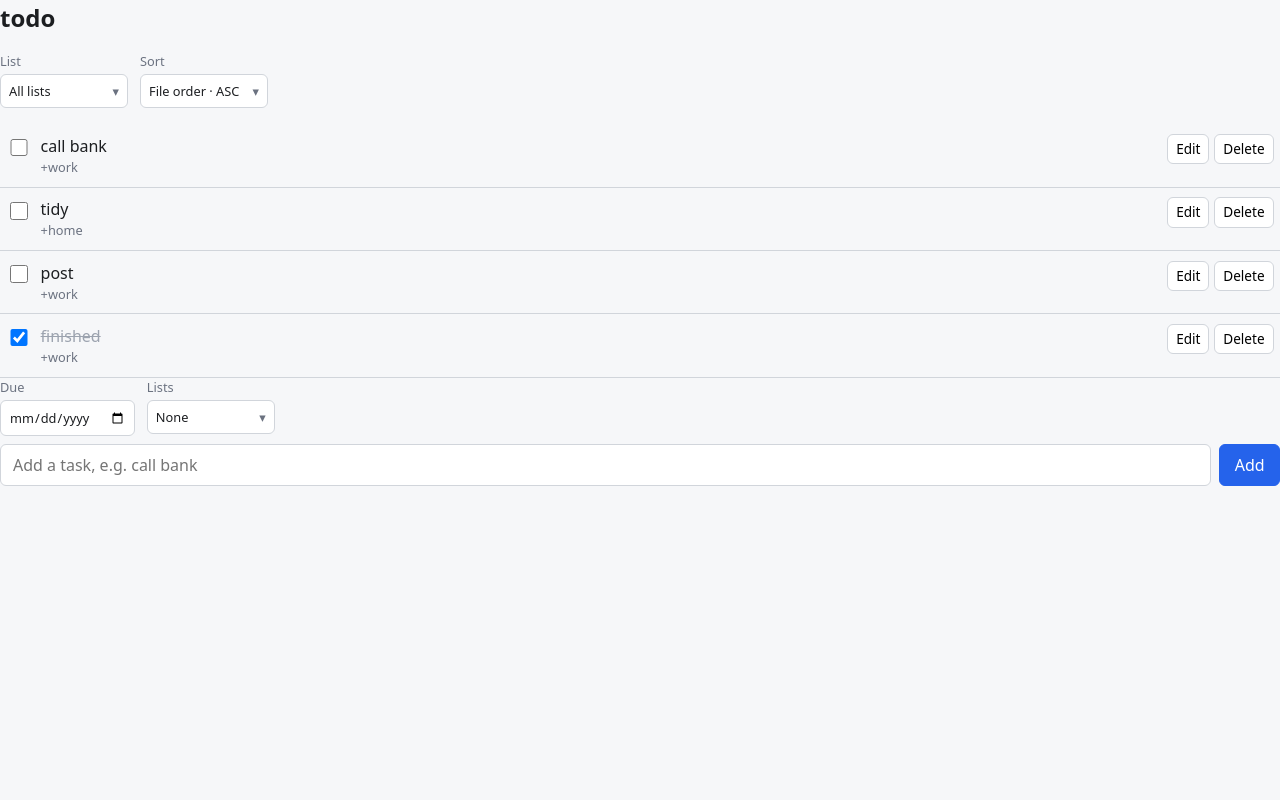
Test: TodoPane simplified workflow (compact=false) › list filtering includes completed tasks and offers no status/context controls
Expected: the text "finished" is shown, [41,325,101,347]
Click the button with aria-label "list filter". click: click(64, 91)
box: [0,74,128,108]
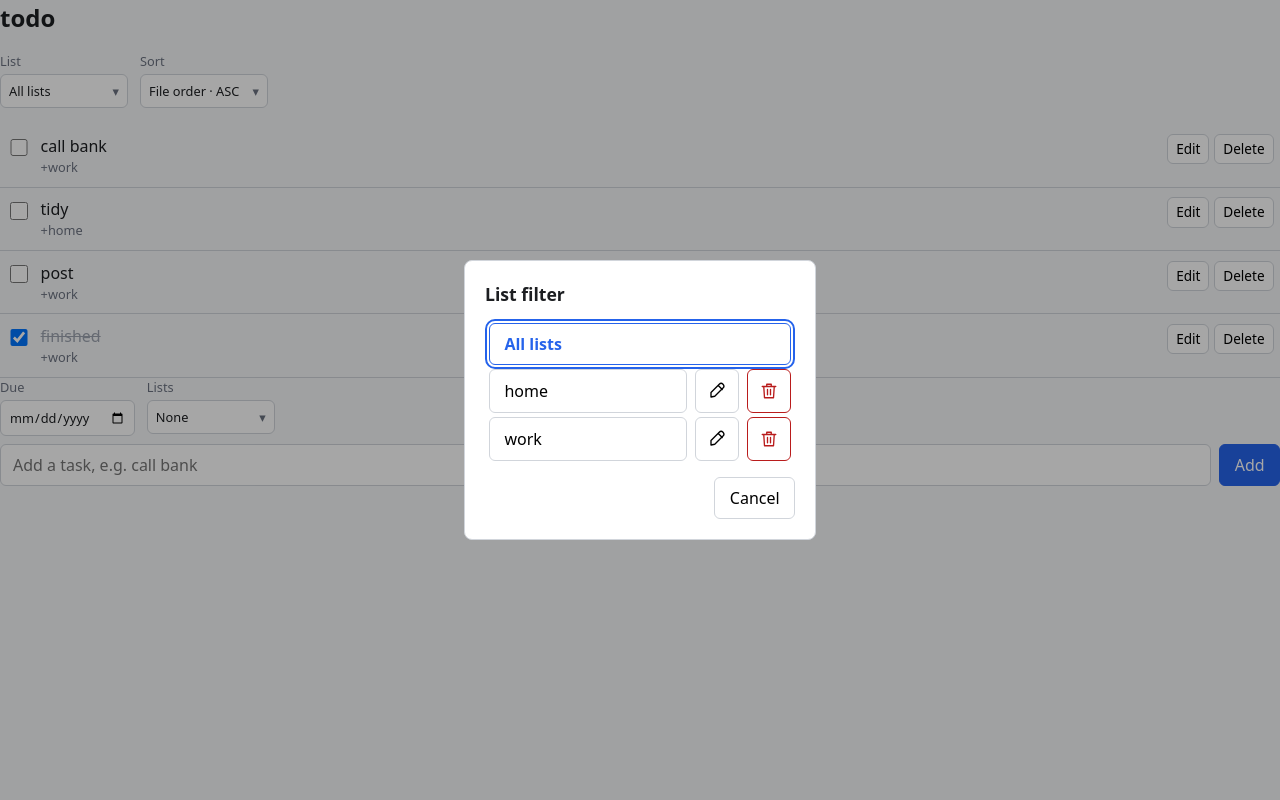
Click the button "work". click: click(588, 439)
box: [489,417,687,461]
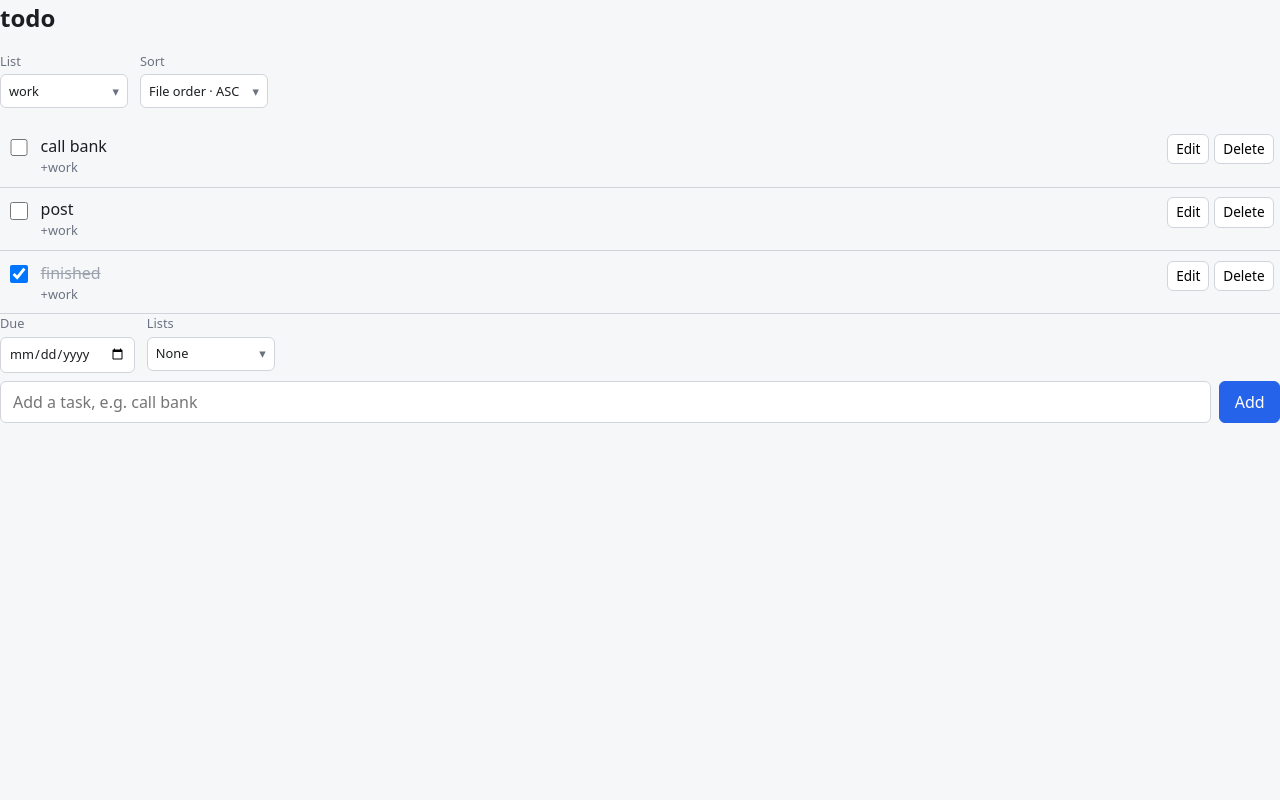
Expected: the text with class "meta" below "finished" reads "+work", [41,285,78,303]
Result: the text "tidy" is gone
